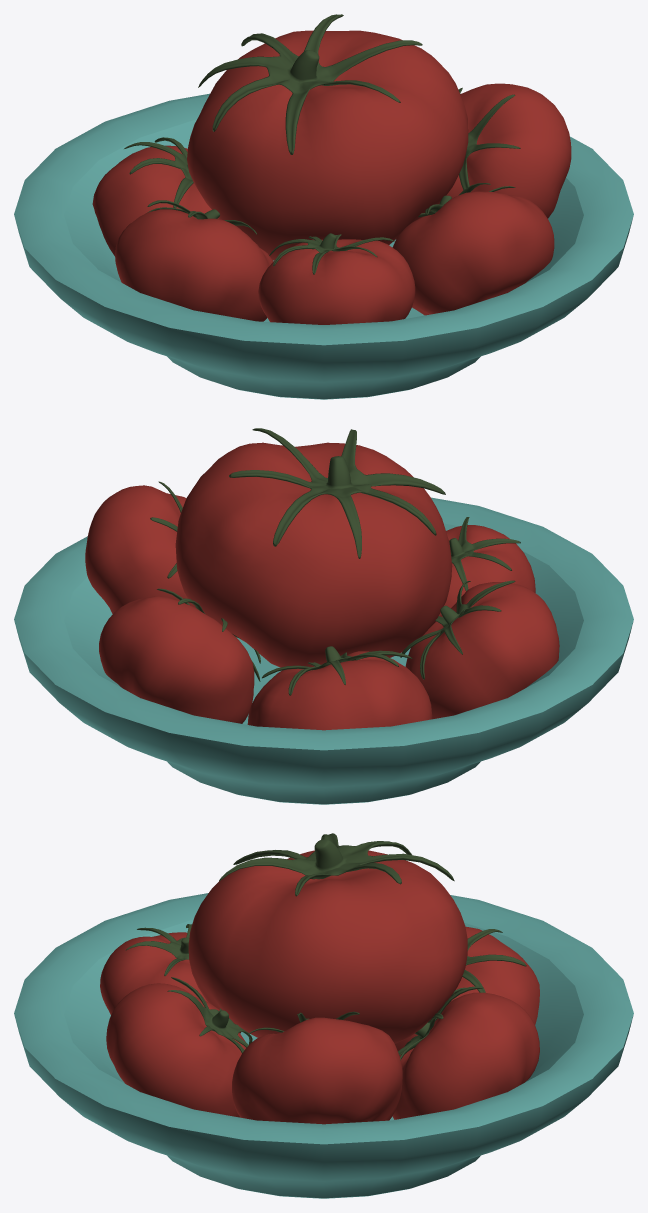
File: 031_tomatoes.glb
3 views of the same model, one above another, from view 1: azimuth 30°, elevation 25°; view 2: azimuth 150°, elevation 25°; view 3: azimuth 270°, elevation 25° (orthographic).
Parts seen in each view (by area): view 1: Circle, tomato.006, tomato.003, tomato, tomato.001, tomato.005, tomatogreen.006, tomato.002, tomatogreen.002, tomatogreen.001, tomatogreen.005, tomatogreen; view 2: Circle, tomato.006, tomato.004, tomato, tomato.002, tomato.005, tomatogreen.006, tomato.001, tomatogreen, tomatogreen.001, tomatogreen.002; view 3: Circle, tomato.006, tomato.005, tomato.004, tomato.003, tomatogreen.006, tomato.001, tomato.002, tomatogreen.003, tomatogreen.001, tomatogreen.002, tomatogreen.004.
Boxes of the visible parts, x1,y1,x2,y2 form: Circle: [14, 93, 633, 399]; tomato.006: [187, 30, 468, 260]; tomato.003: [392, 191, 554, 315]; tomato: [115, 209, 273, 321]; tomato.001: [258, 239, 415, 324]; tomato.005: [423, 83, 571, 218]; tomatogreen.006: [198, 14, 422, 154]; tomato.002: [92, 145, 218, 255]; tomatogreen.002: [124, 137, 193, 208]; tomatogreen.001: [269, 233, 394, 274]; tomatogreen.005: [458, 87, 520, 190]; tomatogreen: [147, 200, 257, 234]; Circle: [14, 497, 633, 804]; tomato.006: [175, 442, 452, 667]; tomato.004: [99, 596, 254, 723]; tomato: [405, 582, 559, 719]; tomato.002: [247, 651, 432, 730]; tomato.005: [85, 485, 193, 613]; tomatogreen.006: [229, 428, 445, 558]; tomato.001: [439, 525, 535, 615]; tomatogreen: [400, 580, 515, 679]; tomatogreen.001: [449, 517, 520, 591]; tomatogreen.002: [262, 646, 412, 695]; Circle: [14, 893, 633, 1198]; tomato.006: [188, 850, 467, 1043]; tomato.005: [232, 1017, 402, 1124]; tomato.004: [392, 992, 539, 1119]; tomato.003: [106, 983, 245, 1117]; tomatogreen.006: [219, 833, 454, 896]; tomato.001: [100, 932, 240, 1033]; tomato.002: [395, 926, 539, 1050]; tomatogreen.003: [167, 977, 252, 1053]; tomatogreen.001: [125, 924, 192, 975]; tomatogreen.002: [462, 929, 526, 992]; tomatogreen.004: [398, 986, 483, 1060].
Size of the model in its own units: 0.5974 by 0.2982 by 0.5974.
